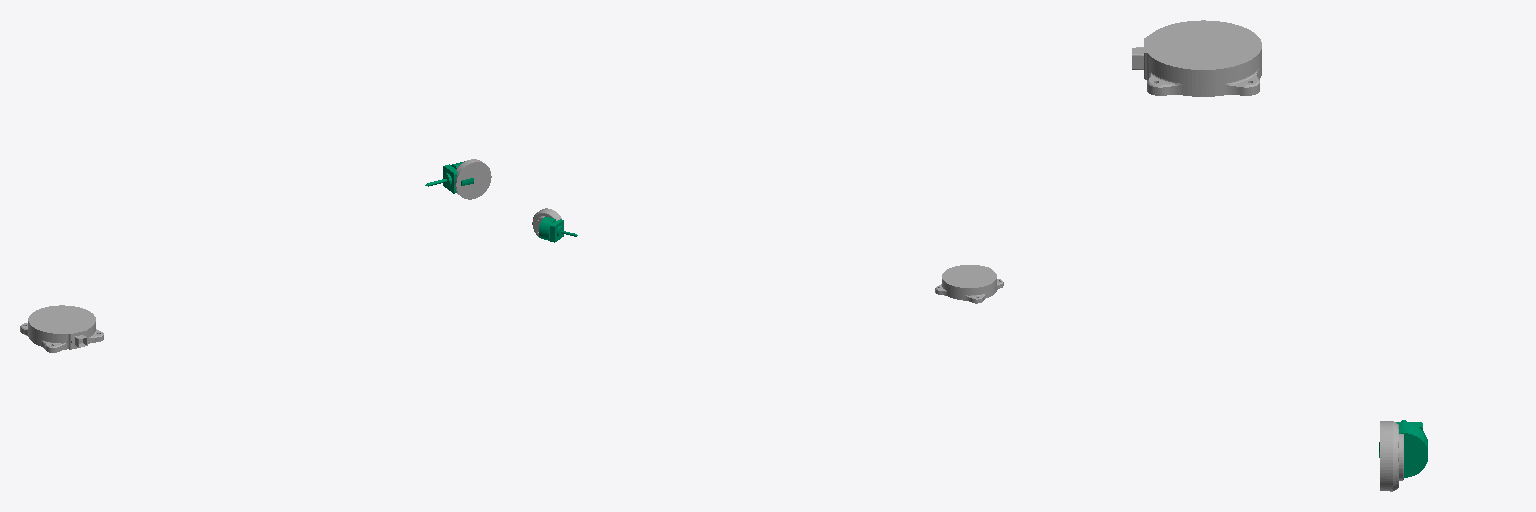
URDF robot description (ur10):
<?xml version="1.0" ?>
<!-- =================================================================================== -->
<!-- |    This document was autogenerated by xacro from [local-path]/catkin_ws/src/universal_robot/ur_description/urdf/ur10_robot.urdf.xacro | -->
<!-- |    EDITING THIS FILE BY HAND IS NOT RECOMMENDED                                 | -->
<!-- =================================================================================== -->
<robot name="ur10" xmlns:xacro="http://ros.org/wiki/xacro">
  <gazebo>
    <plugin filename="libgazebo_ros_control.so" name="ros_control">
      <!--robotNamespace>/</robotNamespace-->
      <!--robotSimType>gazebo_ros_control/DefaultRobotHWSim</robotSimType-->
    </plugin>
    <!--
    <plugin name="gazebo_ros_power_monitor_controller" filename="libgazebo_ros_power_monitor.so">
      <alwaysOn>true</alwaysOn>
      <updateRate>1.0</updateRate>
      <timeout>5</timeout>
      <powerStateTopic>power_state</powerStateTopic>
      <powerStateRate>10.0</powerStateRate>
      <fullChargeCapacity>87.78</fullChargeCapacity>     
      <dischargeRate>-474</dischargeRate>
      <chargeRate>525</chargeRate>
      <dischargeVoltage>15.52</dischargeVoltage>
      <chargeVoltage>16.41</chargeVoltage>
    </plugin>
-->
  </gazebo>
  <!--
  Author: [author]
  Contributers: [author], [author], [author]
-->
  <!-- measured from model -->
  <link name="base_link">
    <visual>
      <geometry>
        <mesh filename="package://ur_description/meshes/ur10/visual/_base.obj"/>
      </geometry>
      <material name="LightGrey">
        <color rgba="0.7 0.7 0.7 1.0"/>
      </material>
    </visual>
    <collision>
      <geometry>
        <mesh filename="package://ur_description/meshes/ur10/collision/base.stl"/>
      </geometry>
    </collision>
    <inertial>
      <mass value="4.0"/>
      <origin rpy="0 0 0" xyz="0.0 0.0 0.0"/>
      <inertia ixx="0.0061063308908" ixy="0.0" ixz="0.0" iyy="0.0061063308908" iyz="0.0" izz="0.01125"/>
    </inertial>
  </link>
  <joint name="shoulder_pan_joint" type="revolute">
    <parent link="base_link"/>
    <child link="shoulder_link"/>
    <origin rpy="0.0 0.0 0.0" xyz="0.0 0.0 0.1273"/>
    <axis xyz="0 0 1"/>
    <limit effort="330.0" lower="-6.2831853" upper="6.2831853" velocity="2.16"/>
    <dynamics damping="0.0" friction="0.0"/>
  </joint>
  <link name="shoulder_link">
    <visual>
      <geometry>
        <mesh filename="package://ur_description/meshes/ur10/visual/_shoulder.obj"/>
      </geometry>
      <material name="LightGrey">
        <color rgba="0.7 0.7 0.7 1.0"/>
      </material>
    </visual>
    <collision>
      <geometry>
        <mesh filename="package://ur_description/meshes/ur10/collision/shoulder.stl"/>
      </geometry>
    </collision>
    <inertial>
      <mass value="7.778"/>
      <origin rpy="0 0 0" xyz="0.0 0.0 0.0"/>
      <inertia ixx="0.0314743125769" ixy="0.0" ixz="0.0" iyy="0.0314743125769" iyz="0.0" izz="0.021875625"/>
    </inertial>
  </link>
  <joint name="shoulder_lift_joint" type="revolute">
    <parent link="shoulder_link"/>
    <child link="upper_arm_link"/>
    <origin rpy="0.0 1.570796325 0.0" xyz="0.0 0.220941 0.0"/>
    <axis xyz="0 1 0"/>
    <limit effort="330.0" lower="-6.2831853" upper="6.2831853" velocity="2.16"/>
    <dynamics damping="0.0" friction="0.0"/>
  </joint>
  <link name="upper_arm_link">
    <visual>
      <geometry>
        <mesh filename="package://ur_description/meshes/ur10/visual/_upperarm.obj"/>
      </geometry>
      <material name="LightGrey">
        <color rgba="0.7 0.7 0.7 1.0"/>
      </material>
    </visual>
    <collision>
      <geometry>
        <mesh filename="package://ur_description/meshes/ur10/collision/upperarm.stl"/>
      </geometry>
    </collision>
    <inertial>
      <mass value="12.93"/>
      <origin rpy="0 0 0" xyz="0.0 0.0 0.306"/>
      <inertia ixx="0.421753803798" ixy="0.0" ixz="0.0" iyy="0.421753803798" iyz="0.0" izz="0.036365625"/>
    </inertial>
  </link>
  <joint name="elbow_joint" type="revolute">
    <parent link="upper_arm_link"/>
    <child link="forearm_link"/>
    <origin rpy="0.0 0.0 0.0" xyz="0.0 -0.1719 0.612"/>
    <axis xyz="0 1 0"/>
    <limit effort="150.0" lower="-6.2831853" upper="6.2831853" velocity="3.15"/>
    <dynamics damping="0.0" friction="0.0"/>
  </joint>
  <link name="forearm_link">
    <visual>
      <geometry>
        <mesh filename="package://ur_description/meshes/ur10/visual/_forearm.obj"/>
      </geometry>
      <material name="LightGrey">
        <color rgba="0.7 0.7 0.7 1.0"/>
      </material>
    </visual>
    <collision>
      <geometry>
        <mesh filename="package://ur_description/meshes/ur10/collision/forearm.stl"/>
      </geometry>
    </collision>
    <inertial>
      <mass value="3.87"/>
      <origin rpy="0 0 0" xyz="0.0 0.0 0.28615"/>
      <inertia ixx="0.111069694097" ixy="0.0" ixz="0.0" iyy="0.111069694097" iyz="0.0" izz="0.010884375"/>
    </inertial>
  </link>
  <joint name="wrist_1_joint" type="revolute">
    <parent link="forearm_link"/>
    <child link="wrist_1_link"/>
    <origin rpy="0.0 1.570796325 0.0" xyz="0.0 0.0 0.5723"/>
    <axis xyz="0 1 0"/>
    <limit effort="54.0" lower="-6.2831853" upper="6.2831853" velocity="3.2"/>
    <dynamics damping="0.0" friction="0.0"/>
  </joint>
  <link name="wrist_1_link">
    <visual>
      <geometry>
        <mesh filename="package://ur_description/meshes/ur10/visual/_wrist1.obj"/>
      </geometry>
      <material name="LightGrey">
        <color rgba="0.7 0.7 0.7 1.0"/>
      </material>
    </visual>
    <collision>
      <geometry>
        <mesh filename="package://ur_description/meshes/ur10/collision/wrist1.stl"/>
      </geometry>
    </collision>
    <inertial>
      <mass value="1.96"/>
      <origin rpy="0 0 0" xyz="0.0 0.0 0.0"/>
      <inertia ixx="0.0051082479567" ixy="0.0" ixz="0.0" iyy="0.0051082479567" iyz="0.0" izz="0.0055125"/>
    </inertial>
  </link>
  <joint name="wrist_2_joint" type="revolute">
    <parent link="wrist_1_link"/>
    <child link="wrist_2_link"/>
    <origin rpy="0.0 0.0 0.0" xyz="0.0 0.1149 0.0"/>
    <axis xyz="0 0 1"/>
    <limit effort="54.0" lower="-6.2831853" upper="6.2831853" velocity="3.2"/>
    <dynamics damping="0.0" friction="0.0"/>
  </joint>
  <link name="wrist_2_link">
    <visual>
      <geometry>
        <mesh filename="package://ur_description/meshes/ur10/visual/_wrist2.obj"/>
      </geometry>
      <material name="LightGrey">
        <color rgba="0.7 0.7 0.7 1.0"/>
      </material>
    </visual>
    <collision>
      <geometry>
        <mesh filename="package://ur_description/meshes/ur10/collision/wrist2.stl"/>
      </geometry>
    </collision>
    <inertial>
      <mass value="1.96"/>
      <origin rpy="0 0 0" xyz="0.0 0.0 0.0"/>
      <inertia ixx="0.0051082479567" ixy="0.0" ixz="0.0" iyy="0.0051082479567" iyz="0.0" izz="0.0055125"/>
    </inertial>
  </link>
  <joint name="wrist_3_joint" type="revolute">
    <parent link="wrist_2_link"/>
    <child link="wrist_3_link"/>
    <origin rpy="0.0 0.0 0.0" xyz="0.0 0.0 0.1157"/>
    <axis xyz="0 1 0"/>
    <limit effort="54.0" lower="-6.2831853" upper="6.2831853" velocity="3.2"/>
    <dynamics damping="0.0" friction="0.0"/>
  </joint>
  <link name="wrist_3_link">
    <visual>
      <geometry>
        <mesh filename="package://ur_description/meshes/ur10/visual/_wrist3.obj"/>
      </geometry>
      <material name="LightGrey">
        <color rgba="0.7 0.7 0.7 1.0"/>
      </material>
    </visual>
    <collision>
      <geometry>
        <mesh filename="package://ur_description/meshes/ur10/collision/wrist3.stl"/>
      </geometry>
    </collision>
    <inertial>
      <mass value="0.202"/>
      <origin rpy="0 0 0" xyz="0.0 0.0 0.0"/>
      <inertia ixx="0.000526462289415" ixy="0.0" ixz="0.0" iyy="0.000526462289415" iyz="0.0" izz="0.000568125"/>
    </inertial>
  </link>
  <joint name="ee_fixed_joint" type="fixed">
    <parent link="wrist_3_link"/>
    <child link="ee_link"/>
    <origin rpy="0.0 0.0 1.570796325" xyz="0.0 0.0922 0.0"/>
  </joint>
  <link name="ee_link">
    <collision>
      <geometry>
        <box size="0.01 0.01 0.01"/>
      </geometry>
      <origin rpy="0 0 0" xyz="-0.01 0 0"/>
    </collision>
  </link>
  <transmission name="shoulder_pan_trans">
    <type>transmission_interface/SimpleTransmission</type>
    <joint name="shoulder_pan_joint">
      <hardwareInterface>PositionJointInterface</hardwareInterface>
    </joint>
    <actuator name="shoulder_pan_motor">
      <mechanicalReduction>1</mechanicalReduction>
    </actuator>
  </transmission>
  <transmission name="shoulder_lift_trans">
    <type>transmission_interface/SimpleTransmission</type>
    <joint name="shoulder_lift_joint">
      <hardwareInterface>PositionJointInterface</hardwareInterface>
    </joint>
    <actuator name="shoulder_lift_motor">
      <mechanicalReduction>1</mechanicalReduction>
    </actuator>
  </transmission>
  <transmission name="elbow_trans">
    <type>transmission_interface/SimpleTransmission</type>
    <joint name="elbow_joint">
      <hardwareInterface>PositionJointInterface</hardwareInterface>
    </joint>
    <actuator name="elbow_motor">
      <mechanicalReduction>1</mechanicalReduction>
    </actuator>
  </transmission>
  <transmission name="wrist_1_trans">
    <type>transmission_interface/SimpleTransmission</type>
    <joint name="wrist_1_joint">
      <hardwareInterface>PositionJointInterface</hardwareInterface>
    </joint>
    <actuator name="wrist_1_motor">
      <mechanicalReduction>1</mechanicalReduction>
    </actuator>
  </transmission>
  <transmission name="wrist_2_trans">
    <type>transmission_interface/SimpleTransmission</type>
    <joint name="wrist_2_joint">
      <hardwareInterface>PositionJointInterface</hardwareInterface>
    </joint>
    <actuator name="wrist_2_motor">
      <mechanicalReduction>1</mechanicalReduction>
    </actuator>
  </transmission>
  <transmission name="wrist_3_trans">
    <type>transmission_interface/SimpleTransmission</type>
    <joint name="wrist_3_joint">
      <hardwareInterface>PositionJointInterface</hardwareInterface>
    </joint>
    <actuator name="wrist_3_motor">
      <mechanicalReduction>1</mechanicalReduction>
    </actuator>
  </transmission>
  <!-- nothing to do here at the moment -->
  <!-- ROS base_link to UR 'Base' Coordinates transform -->
  <link name="base"/>
  <joint name="base_link-base_fixed_joint" type="fixed">
    <!-- NOTE: this rotation is only needed as long as base_link itself is
                 not corrected wrt the real robot (ie: rotated over 180
                 degrees)
      -->
    <origin rpy="0 0 -3.14159265" xyz="0 0 0"/>
    <parent link="base_link"/>
    <child link="base"/>
  </joint>
  <!-- Frame coincident with all-zeros TCP on UR controller -->
  <link name="tool0"/>
  <joint name="wrist_3_link-tool0_fixed_joint" type="fixed">
    <origin rpy="-1.570796325 0 0" xyz="0 0.0922 0"/>
    <parent link="wrist_3_link"/>
    <child link="tool0"/>
  </joint>
  <joint name="measurement_tool_joint" type="fixed">
    <parent link="tool0"/>
    <child link="measurement_tool"/>
    <origin rpy="0 0 0" xyz="0 0 0"/>
  </joint>
  <link name="measurement_tool">
    <visual>
      <geometry>
        <mesh filename="package://ur_end_effectors/meshes/visual/measurement_tool.stl"/>
      </geometry>
    </visual>
    <collision>
      <geometry>
        <mesh filename="package://ur_end_effectors/meshes/collision/measurement_tool.stl"/>
      </geometry>
    </collision>
  </link>
  <!-- TCP frame -->
  <link name="tcp"/>
  <joint name="tcp_joint" type="fixed">
    <origin rpy="0 0 0" xyz="0 0 0.116"/>
    <parent link="measurement_tool"/>
    <child link="tcp"/>
  </joint>
  <link name="world"/>
  <joint name="world_joint" type="fixed">
    <parent link="world"/>
    <child link="base_link"/>
    <origin rpy="0.0 0.0 0.0" xyz="0.0 0.0 0.0"/>
  </joint>
</robot>

--- What the picture shows (computed from the rendered views, not written in the file) ---
Views: 3 orthographic renders of the robot side by side, from view 1: azimuth 30°, elevation 25°; view 2: azimuth 150°, elevation 25°; view 3: azimuth 270°, elevation 25°.
Model ur10 with 13 links and 12 joints (6 revolute, 6 fixed), rooted at world, posed every joint at zero.
Links seen in each view (by area): view 1: base_link, wrist_3_link; view 2: base_link, measurement_tool; view 3: base_link, wrist_3_link, measurement_tool.
Boxes of the visible links, x1=… form: base_link: x1=20, y1=305, x2=103, y2=352; wrist_3_link: x1=455, y1=159, x2=491, y2=199; base_link: x1=935, y1=265, x2=1003, y2=303; measurement_tool: x1=539, y1=217, x2=577, y2=242; base_link: x1=1132, y1=20, x2=1261, y2=96; wrist_3_link: x1=1380, y1=421, x2=1403, y2=491; measurement_tool: x1=1379, y1=420, x2=1427, y2=477.
Size in the robot's own frame: 1.3 by 0.3796 by 0.0901 metres.
3 mesh visuals loaded from 8 distinct referenced files (1 binary STL, 2 OBJ); not drawn: 5 (reference not matched to a file when rendering).